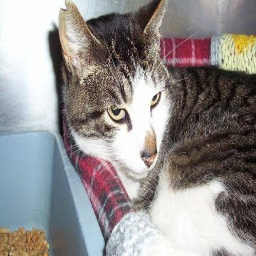cat: (57, 3, 256, 256)
